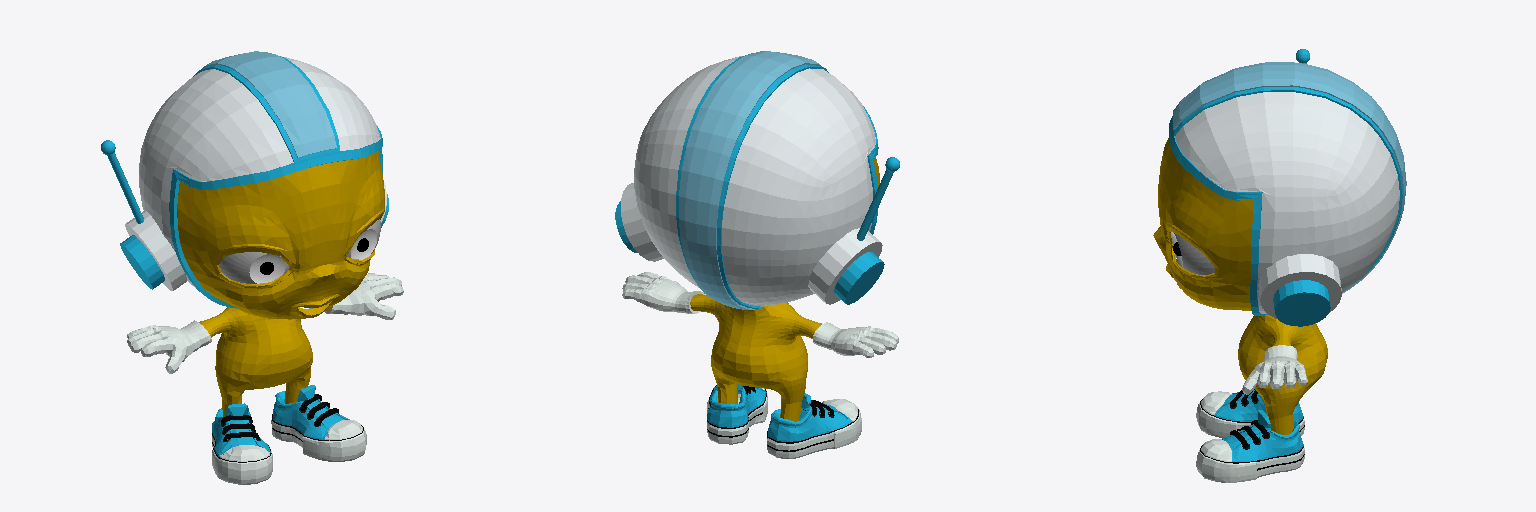
Rendered from mascote.obj.
The picture shows the model from 3 angles: view 1: azimuth 30°, elevation 25°; view 2: azimuth 150°, elevation 25°; view 3: azimuth 270°, elevation 25°; orthographic projection.
Parts seen in each view (by area): view 1: Body, Helmet1, r_shoe, l_shoe, l_part_Large, r_eye, l_part_small, arial.1, l_eye; view 2: Helmet1, Body, l_shoe, r_shoe, l_part_Large, l_part_small, r_part_large, arial.1; view 3: Helmet1, Body, r_shoe, r_part_large, l_shoe, r_part_small, l_eye.
Part boxes in pixels (bbox=[...]): Body: bbox=[127, 151, 403, 416]; Helmet1: bbox=[139, 51, 382, 308]; r_shoe: bbox=[271, 385, 366, 461]; l_shoe: bbox=[212, 403, 272, 484]; l_part_Large: bbox=[125, 211, 186, 290]; r_eye: bbox=[219, 252, 288, 283]; l_part_small: bbox=[120, 235, 164, 289]; arial.1: bbox=[101, 140, 143, 223]; l_eye: bbox=[347, 219, 380, 259]; Helmet1: bbox=[634, 51, 878, 309]; Body: bbox=[622, 157, 898, 421]; l_shoe: bbox=[767, 393, 861, 458]; r_shoe: bbox=[707, 384, 767, 444]; l_part_Large: bbox=[808, 228, 882, 304]; l_part_small: bbox=[834, 252, 884, 304]; r_part_large: bbox=[621, 183, 663, 261]; arial.1: bbox=[857, 157, 899, 240]; Helmet1: bbox=[1169, 62, 1406, 315]; Body: bbox=[1153, 138, 1327, 434]; r_shoe: bbox=[1196, 410, 1304, 482]; r_part_large: bbox=[1258, 254, 1341, 318]; l_shoe: bbox=[1196, 390, 1304, 437]; r_part_small: bbox=[1273, 280, 1330, 326]; l_eye: bbox=[1171, 232, 1214, 274].
Bounding box in the file's own units: 24.63 × 31.18 × 18.94.